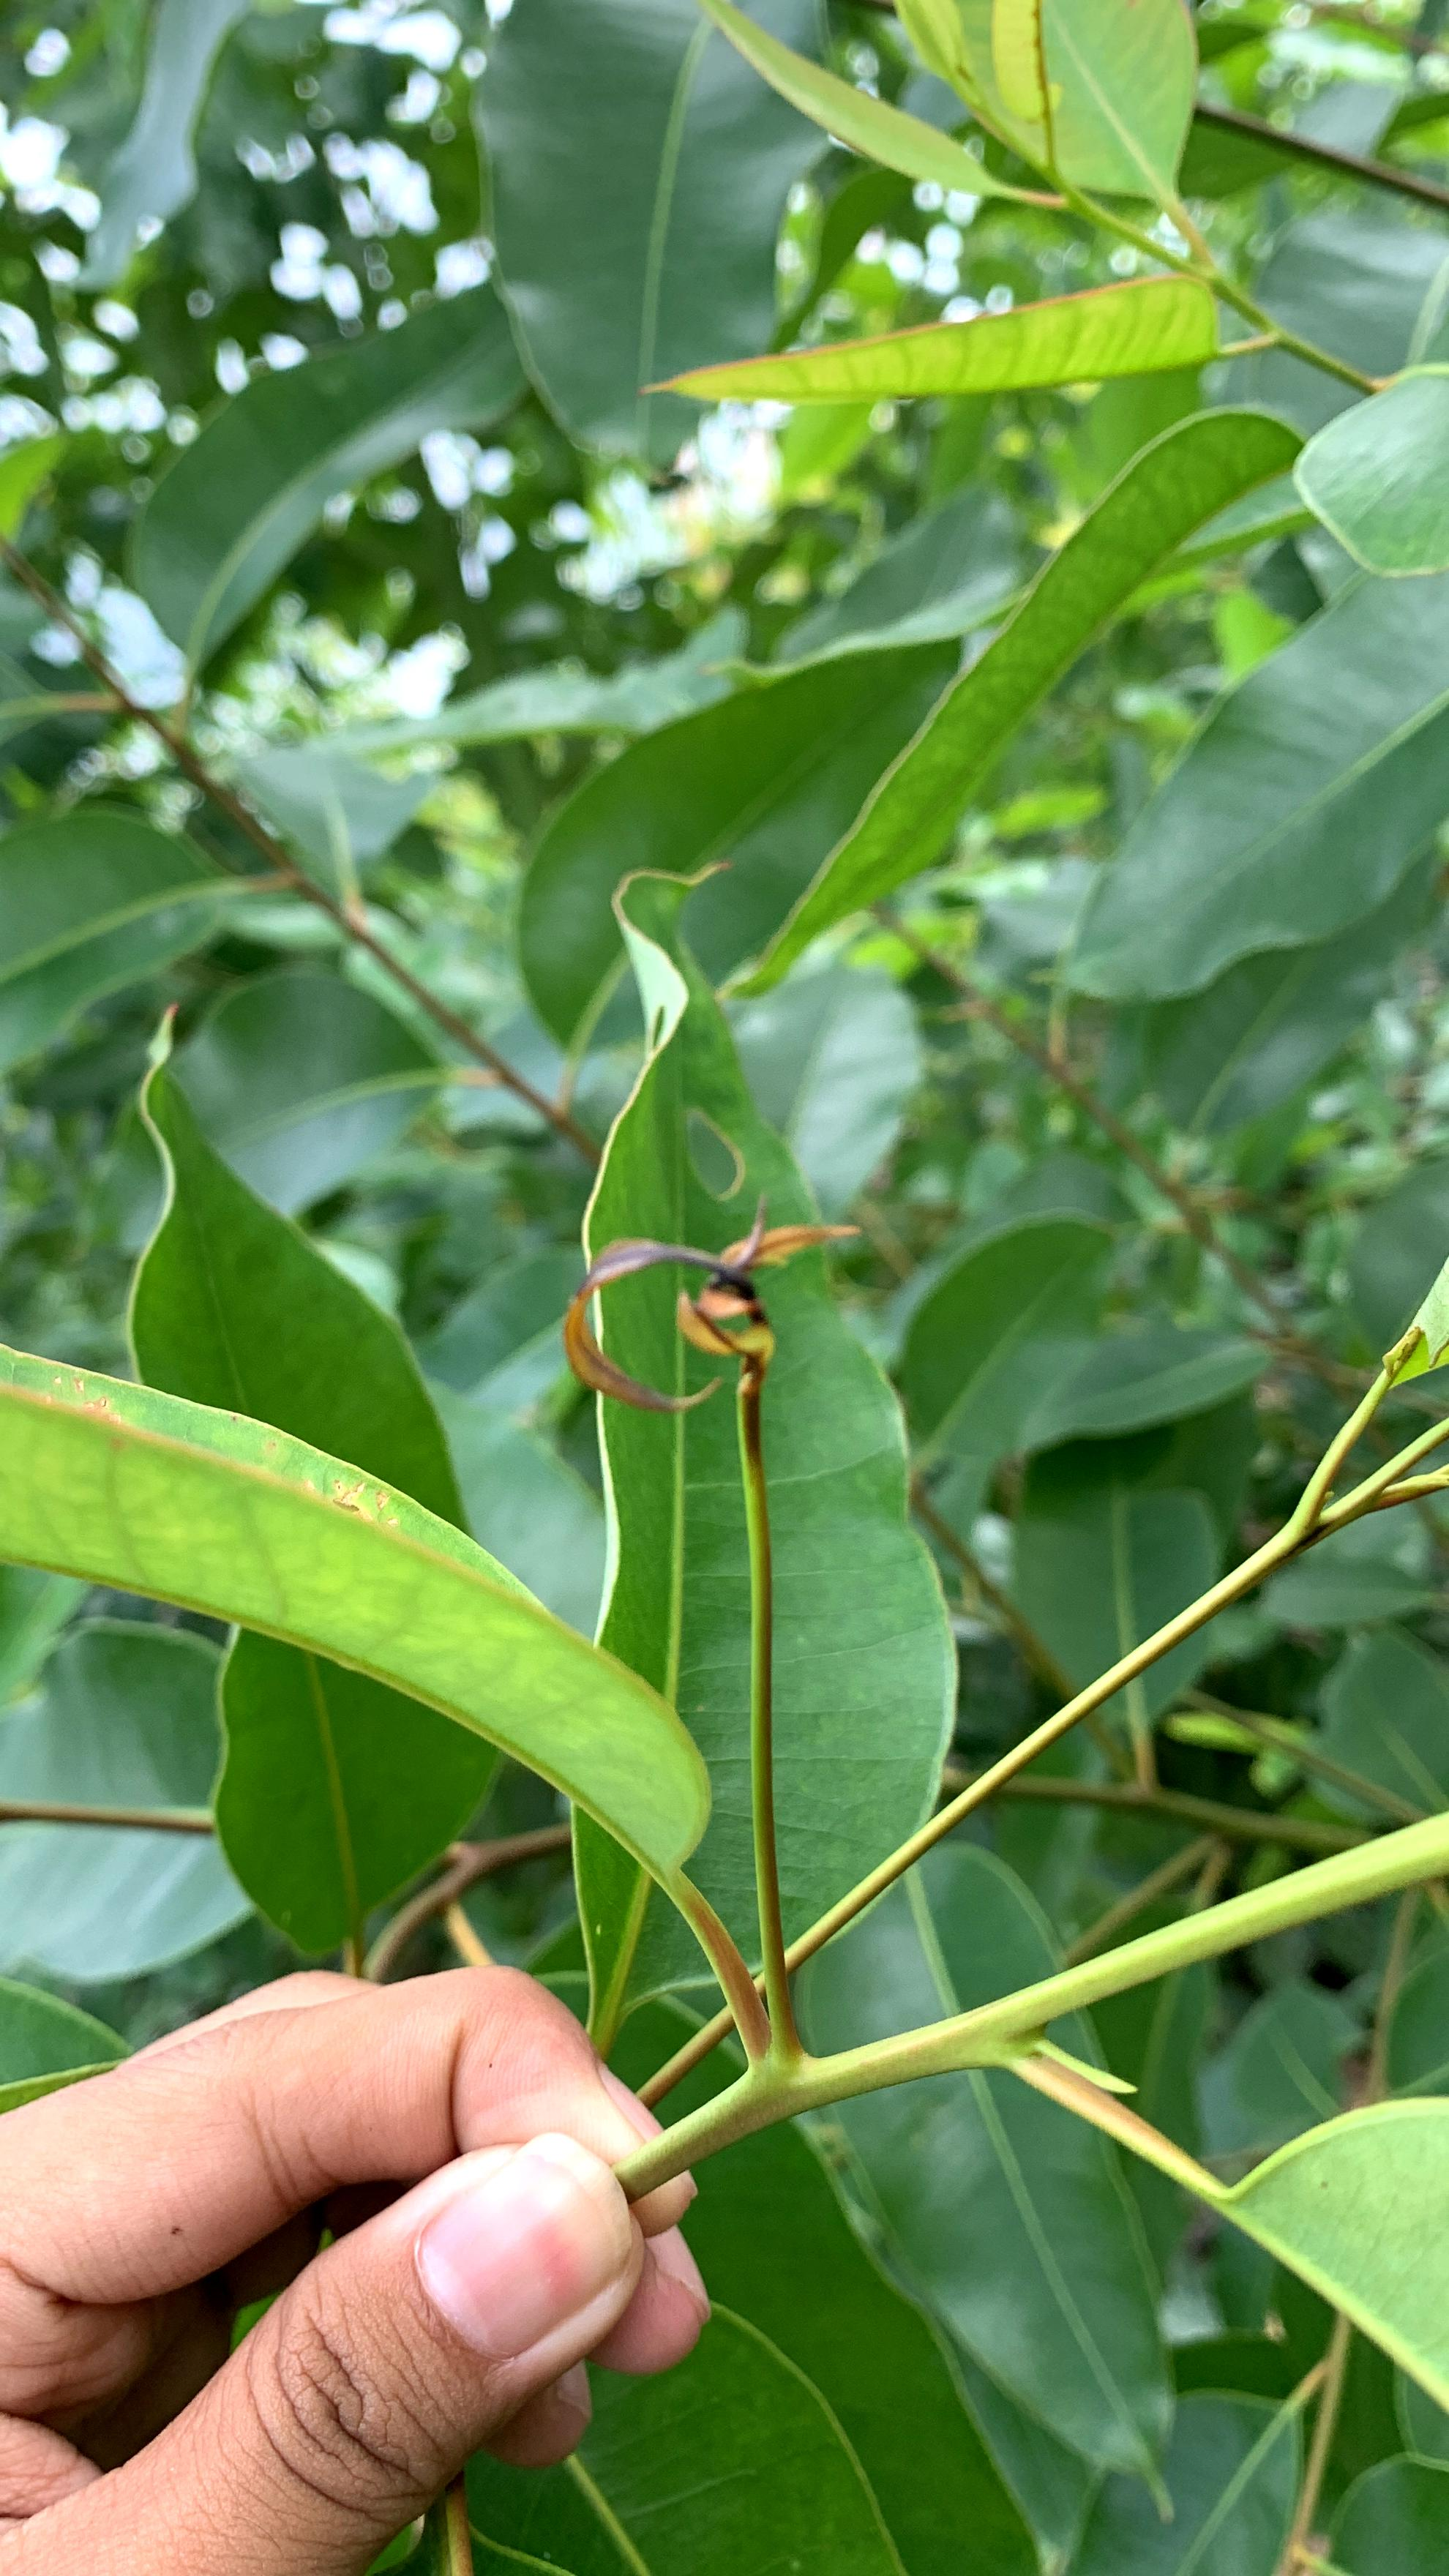Helopeltis-Withered Sprout: (550, 1208, 855, 1433)
